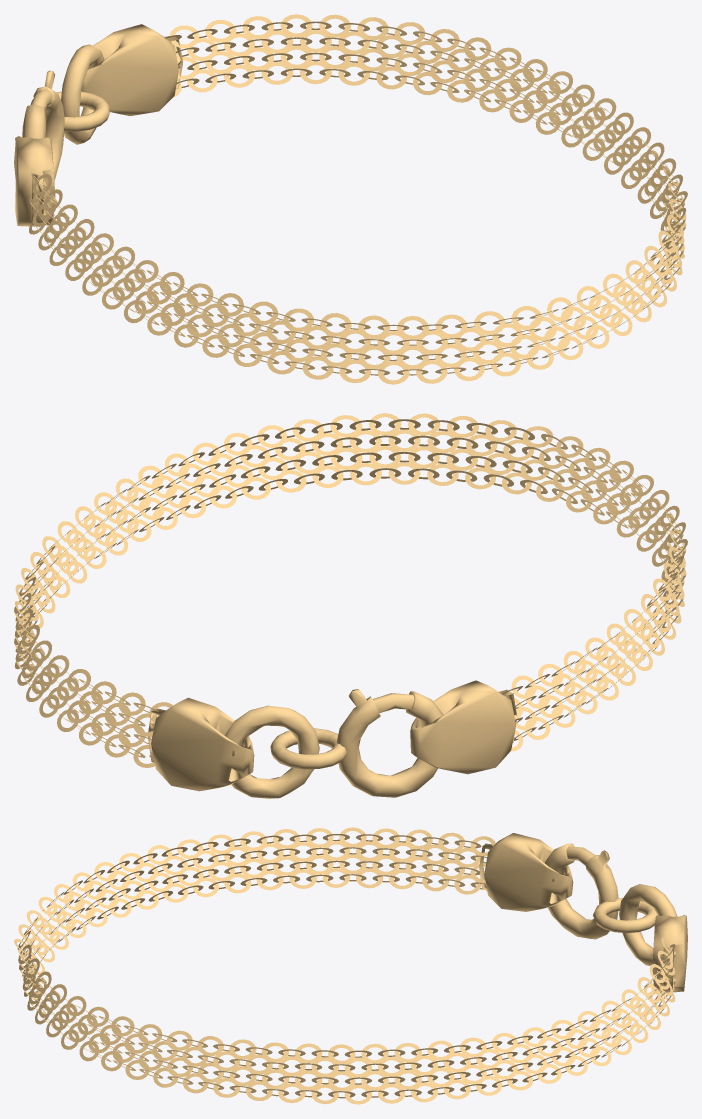
File: FlatBracelet-LowPoly.glb
The picture shows the model from 3 angles, top to bottom: view 1: azimuth 30°, elevation 25°; view 2: azimuth 150°, elevation 25°; view 3: azimuth 270°, elevation 25°; orthographic projection. The views are drawn at different scales.
Parts seen in each view (by area): view 1: FlatBracelet-LowPoly; view 2: FlatBracelet-LowPoly; view 3: FlatBracelet-LowPoly.
Part boxes in pixels (x1=…): FlatBracelet-LowPoly: x1=14, y1=14, x2=687, y2=384; FlatBracelet-LowPoly: x1=14, y1=413, x2=687, y2=798; FlatBracelet-LowPoly: x1=14, y1=827, x2=687, y2=1104.
Bounding box in the file's own units: 39.13 × 7.81 × 49.91.
